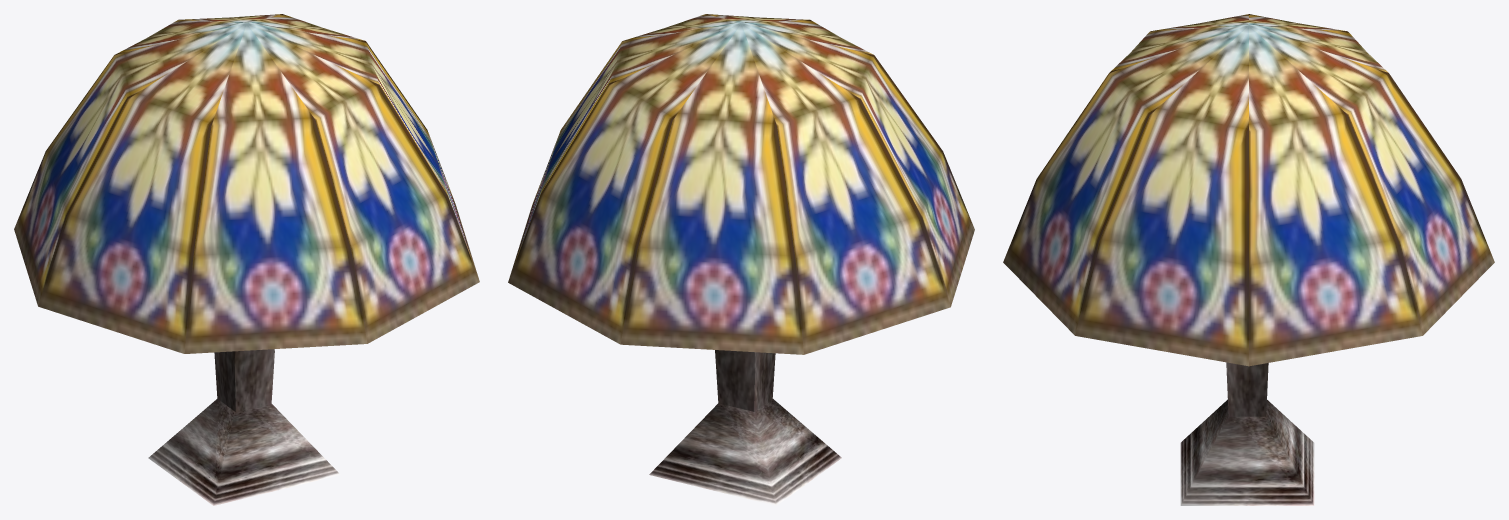
The model's file is lamp_over_table.fbx.
3 views of the same model, side by side, from view 1: azimuth 30°, elevation 25°; view 2: azimuth 150°, elevation 25°; view 3: azimuth 270°, elevation 25° (orthographic).
Parts seen in each view (by area): view 1: shade, stand; view 2: shade, stand; view 3: shade, stand.
Part boxes in pixels (x1,y1,x2,y2): shade: [14, 14, 479, 353]; stand: [148, 349, 340, 505]; shade: [508, 14, 974, 354]; stand: [649, 350, 841, 505]; shade: [1003, 14, 1494, 366]; stand: [1180, 362, 1314, 505].
Size of the model in its own units: 175 by 177 by 175.
Materials: 1 (1 with a texture image).
